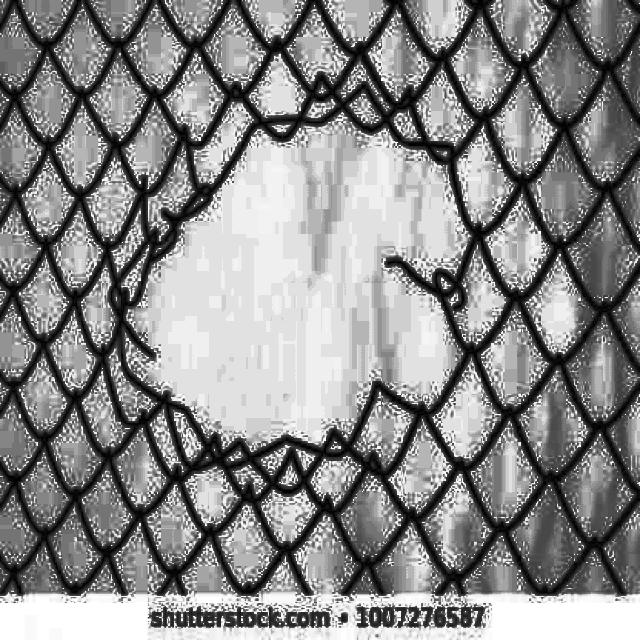anomaly-fence: (84, 66, 524, 497)
